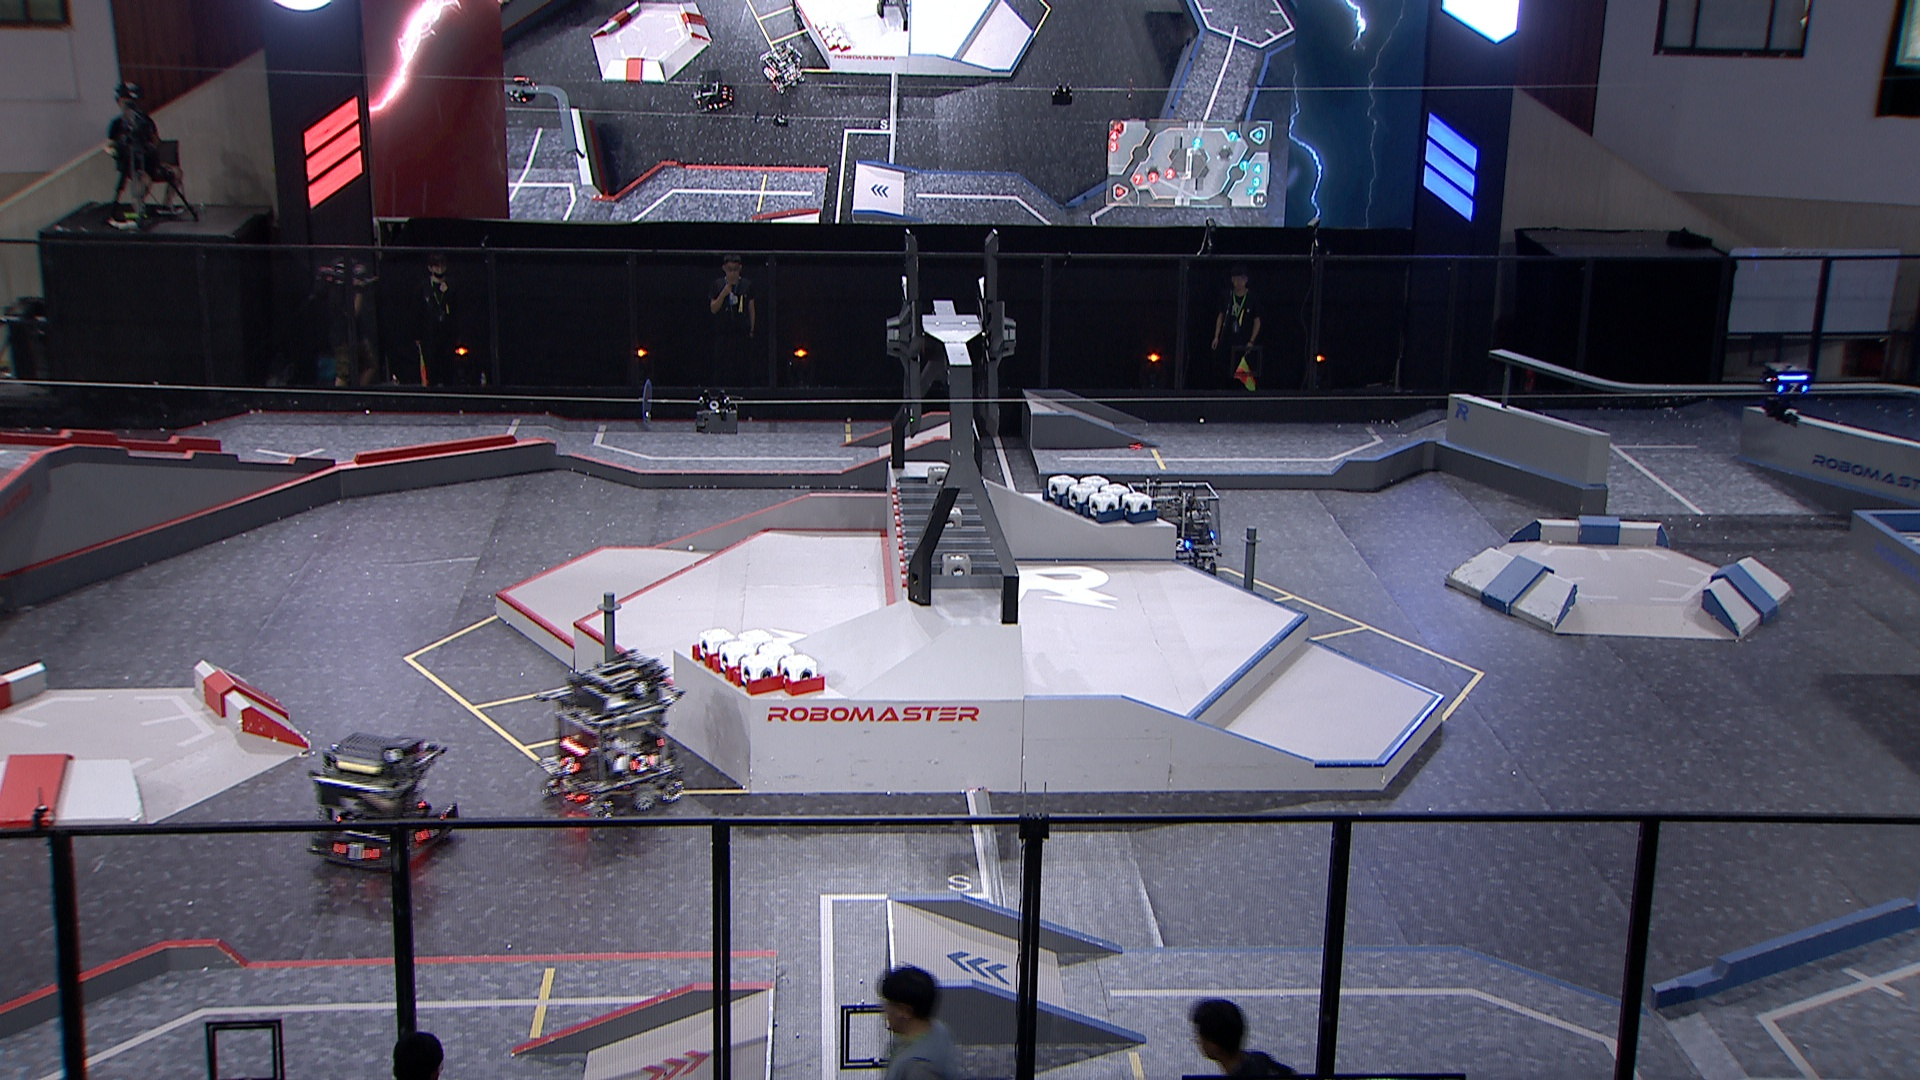armor: (330, 841, 381, 864), (632, 752, 657, 775), (555, 756, 583, 777), (413, 823, 440, 843), (1774, 382, 1811, 396), (1174, 538, 1192, 553)
car: (535, 647, 688, 828), (302, 727, 458, 876), (1124, 477, 1224, 579)
ignore: (760, 40, 808, 94), (688, 69, 738, 116), (504, 76, 541, 107)
watcher: (1759, 360, 1815, 429)
